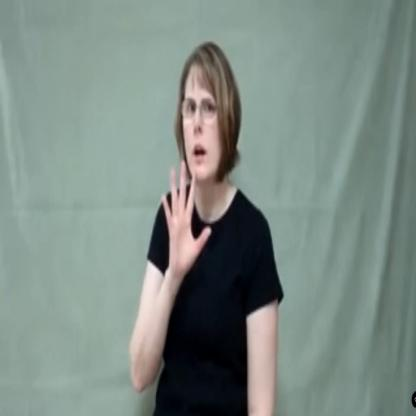Talk: (152, 46, 258, 281)
